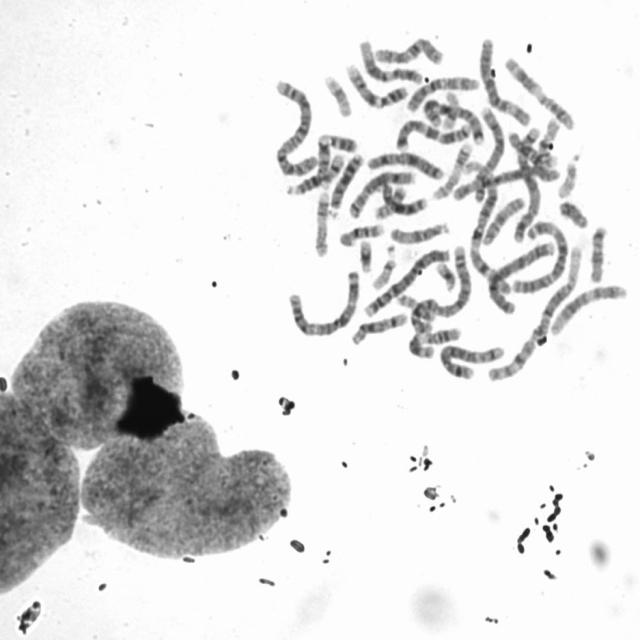A1: (482, 239, 586, 384), (462, 155, 516, 301)
A2: (406, 238, 473, 329), (268, 72, 319, 178)
A3: (282, 262, 362, 339), (509, 214, 571, 295)
B4: (358, 240, 454, 319), (483, 235, 557, 317)
B5: (508, 122, 544, 244), (434, 337, 508, 382)
C10: (402, 68, 482, 112), (368, 30, 446, 67)
C11: (500, 51, 578, 130), (403, 319, 464, 360)
C12: (545, 277, 628, 337), (354, 32, 425, 84)
C6: (474, 30, 533, 127), (447, 156, 564, 203)
C7: (417, 94, 486, 146), (391, 112, 477, 150)
C8: (343, 163, 418, 219), (468, 105, 508, 207)
C9: (340, 55, 411, 109), (310, 126, 359, 190)
D13: (324, 146, 365, 214), (375, 178, 429, 216)
D14: (281, 146, 347, 196), (346, 305, 409, 346)
D15: (477, 190, 528, 246), (385, 216, 453, 246)
E16: (534, 116, 568, 165), (335, 217, 386, 248)
E17: (428, 135, 475, 201), (309, 183, 332, 258)
E18: (504, 134, 555, 172), (585, 219, 609, 284)
F19: (318, 68, 354, 118), (439, 88, 463, 133)
F20: (392, 287, 438, 323), (371, 180, 408, 220)
G21: (431, 256, 458, 294), (354, 234, 374, 274)
G22: (552, 150, 580, 200), (367, 250, 398, 291)
X: (361, 144, 446, 181)
Y: (554, 193, 590, 229)
